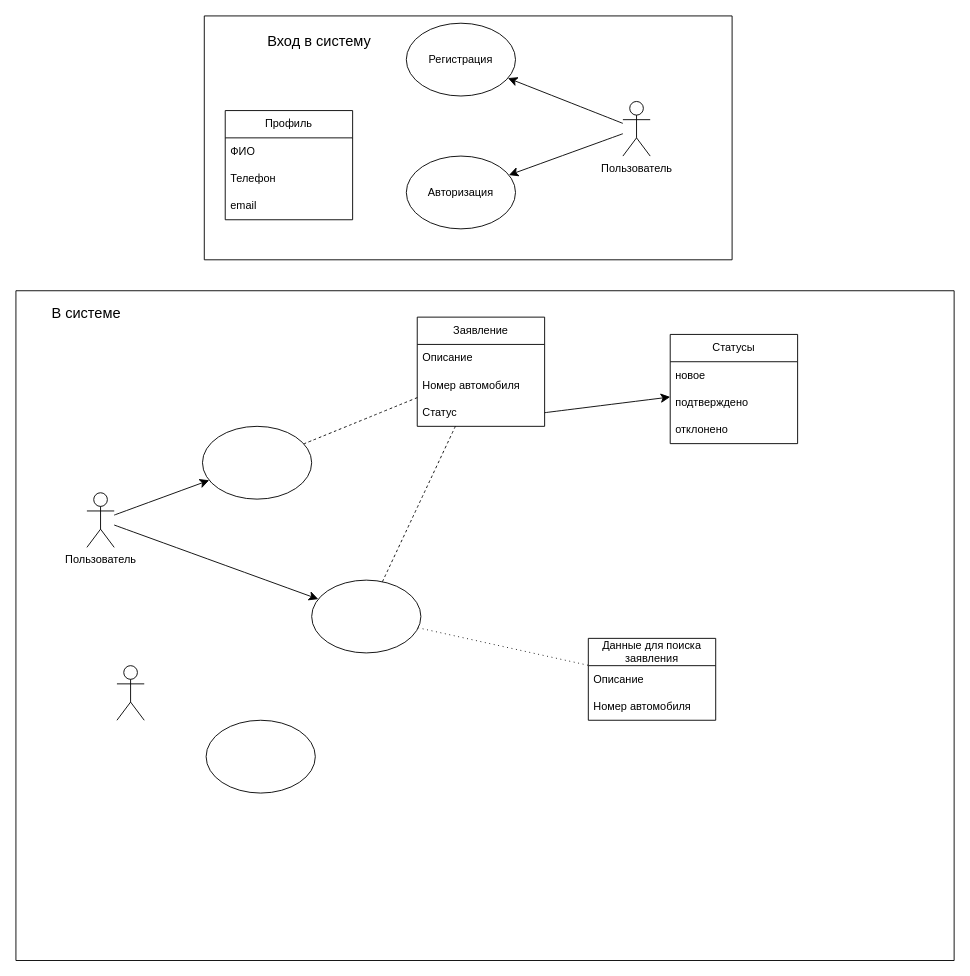
This 970x976 diagram has some shape labels left out. Each missing label, with the centre of its shape:
"Администратор" belongs at [130,692].
"Подтверждение заявления" belongs at [260,756].
"Поиск заявления" belongs at [366,616].
"Создание заявления" belongs at [257,462].
